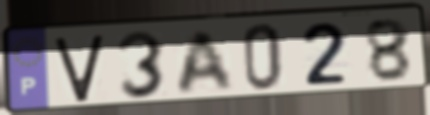0: (240, 21, 289, 94)
2: (301, 20, 355, 90)
3: (115, 29, 167, 102)
8: (363, 17, 414, 84)
A: (174, 27, 237, 96)
V: (51, 31, 107, 105)
